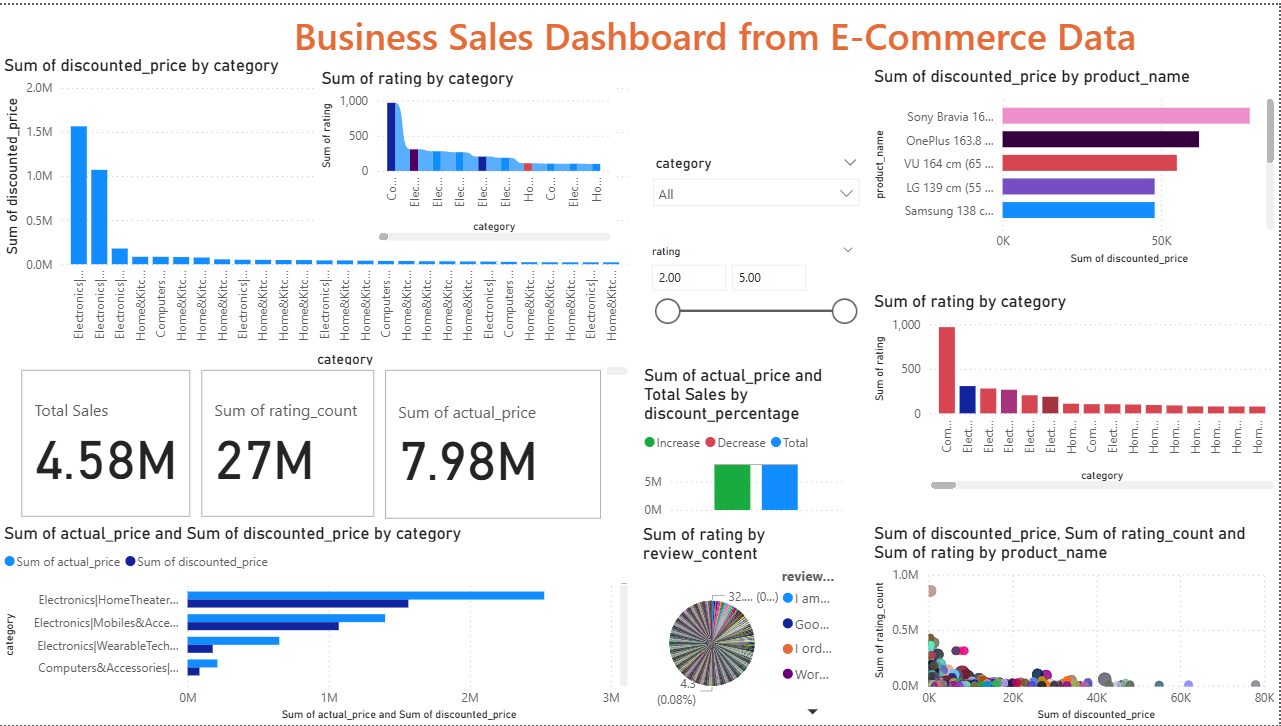

The page's visual inventory and layout, read from the dashboard file:
{"tool":"powerbi","page":{"name":"Page 1","canvas":[1280,720],"ordinal":0},"visuals":[{"type":"clusteredColumnChart","fields":{"Category":["amazon_cleaned_fixed.category"],"Y":["Sum(amazon_cleaned_fixed.discounted_price)"]},"box":[0,49.4,634,325.2],"z":0},{"type":"barChart","fields":{"Y":["Sum(amazon_cleaned_fixed.discounted_price)"],"Category":["amazon_cleaned_fixed.product_name"]},"box":[870,61.7,410.3,203.1],"z":1000},{"type":"columnChart","fields":{"Category":["amazon_cleaned_fixed.category"],"Y":["Sum(amazon_cleaned_fixed.rating)"]},"box":[870,286.8,410.3,203.1],"z":2000},{"type":"scatterChart","fields":{"X":["Sum(amazon_cleaned_fixed.discounted_price)"],"Y":["Sum(amazon_cleaned_fixed.rating_count)"],"Size":["Sum(amazon_cleaned_fixed.rating)"],"Category":["amazon_cleaned_fixed.product_name"]},"box":[870,517.3,410.3,203.1],"z":3000},{"type":"clusteredBarChart","fields":{"Category":["amazon_cleaned_fixed.category"],"Y":["Sum(amazon_cleaned_fixed.actual_price)","Sum(amazon_cleaned_fixed.discounted_price)"]},"box":[0,517.3,634,203.1],"z":4000},{"type":"cardVisual","fields":{"Data":["amazon_cleaned_fixed.Total Sales"]},"box":[17.8,359.5,179.8,157.8],"z":5000},{"type":"cardVisual","fields":{"Data":["Sum(amazon_cleaned_fixed.rating_count)"]},"box":[197.6,359.5,183.9,157.8],"z":6000},{"type":"cardVisual","fields":{"Data":["Sum(amazon_cleaned_fixed.actual_price)"]},"box":[381.5,359.5,226.4,159.2],"z":7000},{"type":"slicer","fields":{"Values":["amazon_cleaned_fixed.category"]},"box":[643.6,145.5,226.4,96.1],"z":8000},{"type":"slicer","fields":{"Values":["amazon_cleaned_fixed.rating"]},"box":[639.5,234.6,226.4,90.6],"z":9000},{"type":"textbox","box":[289.5,0,908.4,61.7],"z":10000},{"type":"waterfallChart","fields":{"Category":["amazon_cleaned_fixed.discount_percentage"],"Y":["Sum(amazon_cleaned_fixed.actual_price)"]},"box":[639.5,359.5,208.6,159.2],"z":11000},{"type":"pieChart","fields":{"Y":["Sum(amazon_cleaned_fixed.rating)"],"Category":["amazon_cleaned_fixed.review_content"]},"box":[639,519,209,201],"z":12000},{"type":"ribbonChart","fields":{"Category":["amazon_cleaned_fixed.category"],"Y":["Sum(amazon_cleaned_fixed.rating)"]},"box":[317,63.1,299.1,178.4],"z":13000}]}

Visuals, with their boxes in screenshot pixels (x1, y1, x2, y2), scaled from the page's 1280x720 canvas onto the 1281x726 screenshot:
clusteredColumnChart - amazon_cleaned_fixed.category x Sum(amazon_cleaned_fixed.discounted_price): <box>0,50,634,378</box>
barChart - Sum(amazon_cleaned_fixed.discounted_price) x amazon_cleaned_fixed.product_name: <box>871,62,1280,267</box>
columnChart - amazon_cleaned_fixed.category x Sum(amazon_cleaned_fixed.rating): <box>871,289,1280,494</box>
scatterChart - Sum(amazon_cleaned_fixed.discounted_price) x Sum(amazon_cleaned_fixed.rating_count): <box>871,522,1280,725</box>
clusteredBarChart - amazon_cleaned_fixed.category x Sum(amazon_cleaned_fixed.actual_price): <box>0,522,634,725</box>
cardVisual - amazon_cleaned_fixed.Total Sales: <box>18,362,198,522</box>
cardVisual - Sum(amazon_cleaned_fixed.rating_count): <box>198,362,382,522</box>
cardVisual - Sum(amazon_cleaned_fixed.actual_price): <box>382,362,608,523</box>
slicer - amazon_cleaned_fixed.category: <box>644,147,871,244</box>
slicer - amazon_cleaned_fixed.rating: <box>640,237,867,328</box>
textbox: <box>290,0,1199,62</box>
waterfallChart - amazon_cleaned_fixed.discount_percentage x Sum(amazon_cleaned_fixed.actual_price): <box>640,362,849,523</box>
pieChart - Sum(amazon_cleaned_fixed.rating) x amazon_cleaned_fixed.review_content: <box>639,523,849,725</box>
ribbonChart - amazon_cleaned_fixed.category x Sum(amazon_cleaned_fixed.rating): <box>317,64,617,244</box>
